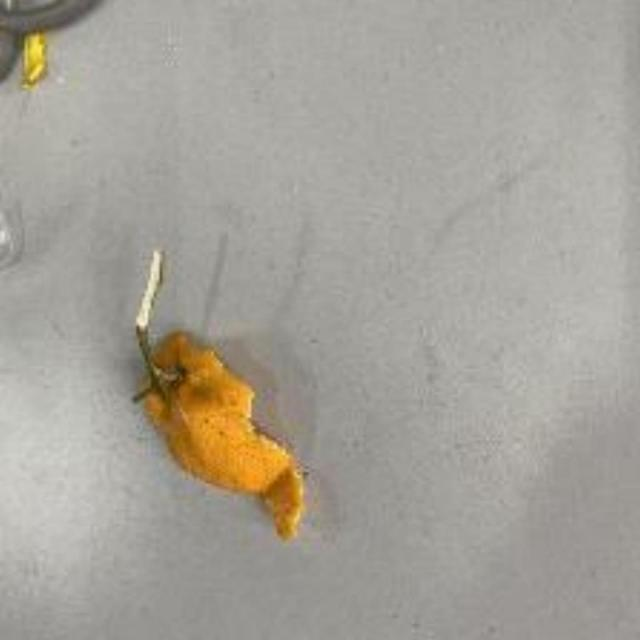orange-peel: (123, 249, 305, 540)
